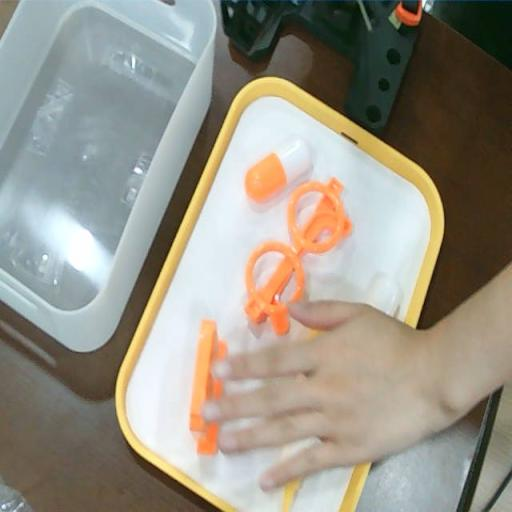hospital: (208, 300, 470, 489)
